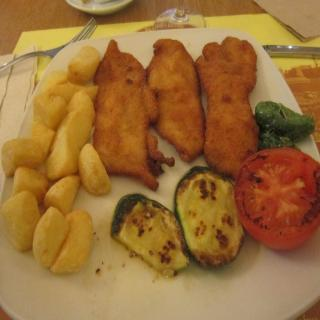tomato: (233, 147, 320, 251)
